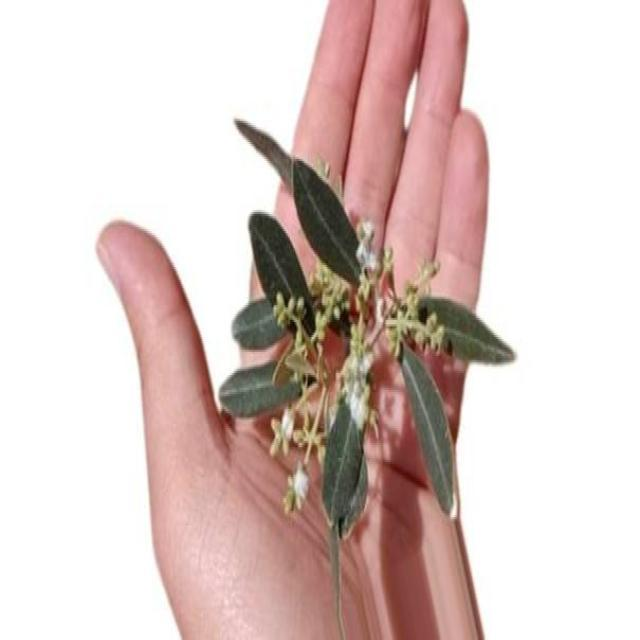Psyllid: (341, 344, 372, 434), (282, 462, 308, 513), (270, 407, 295, 456)
